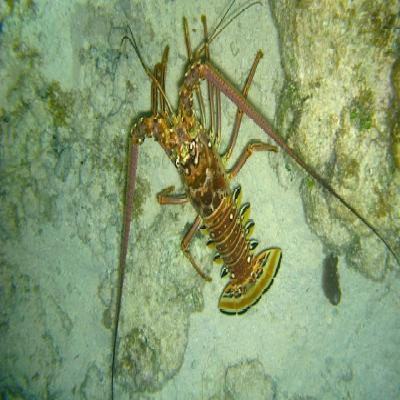lobster: (158, 68, 254, 273)
